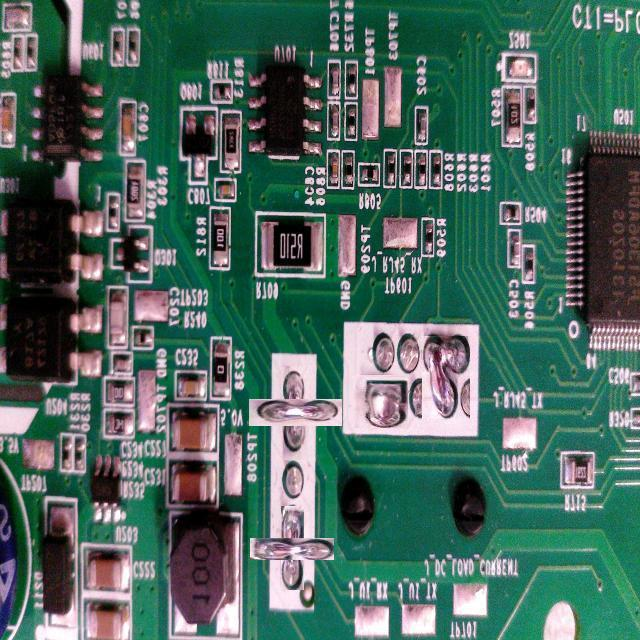Short_circuit: (422, 336, 470, 419), (265, 383, 326, 443), (353, 374, 408, 429), (266, 522, 319, 575)
